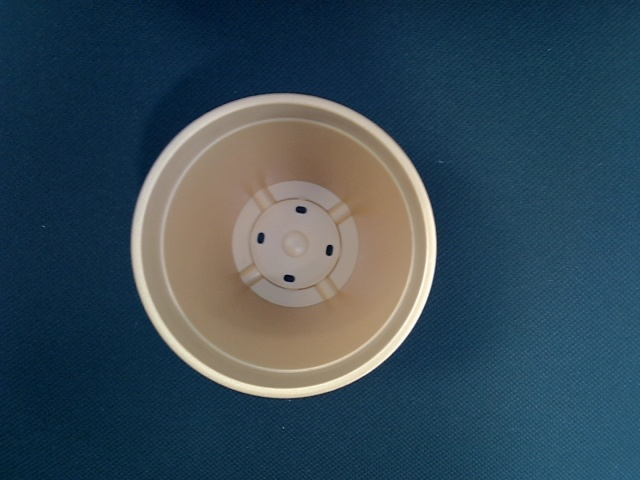화분: (130, 91, 436, 401)
